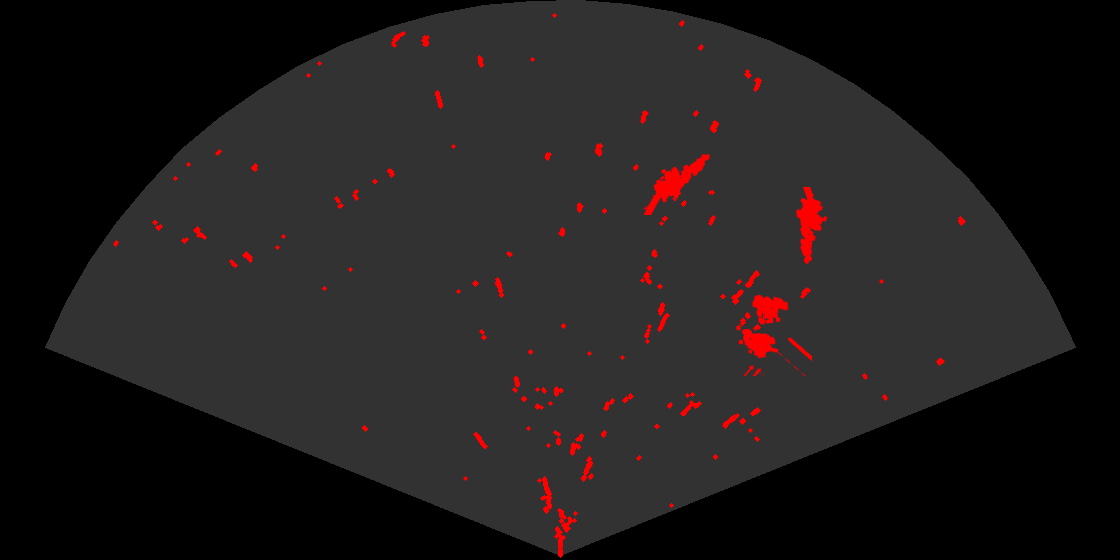cage: (734, 293, 812, 376)
frogman: (642, 152, 712, 215), (794, 187, 829, 266)
